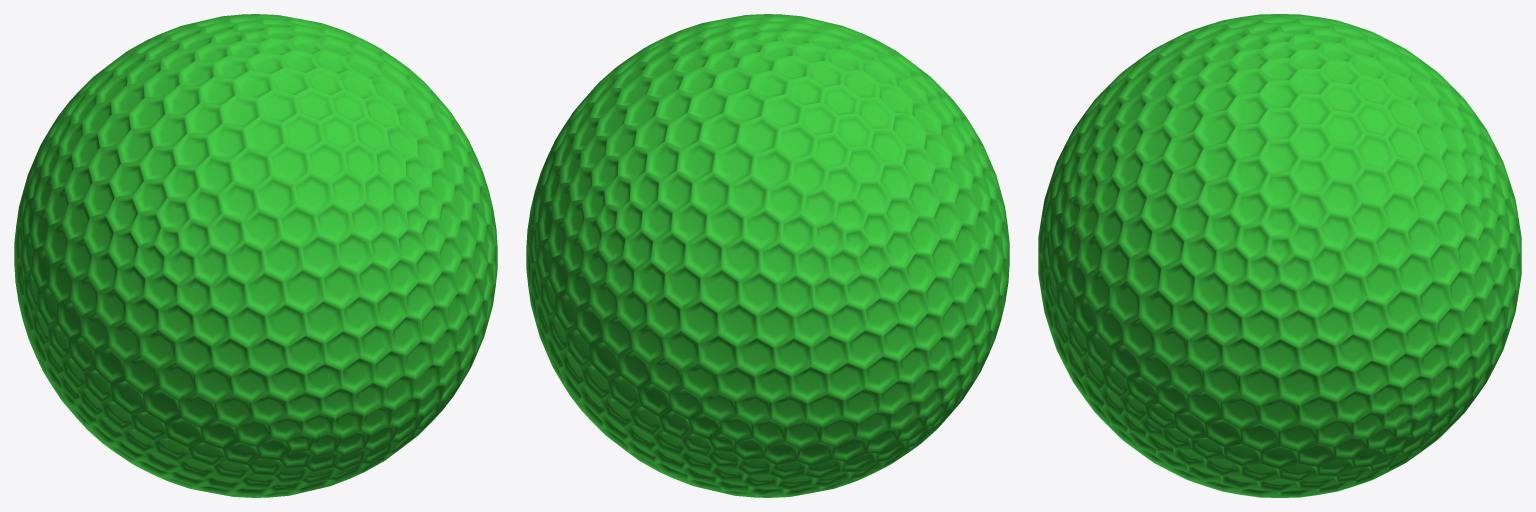
Rendered from GreenBall.fbx.
The picture shows the model from 3 angles, left to right: view 1: azimuth 30°, elevation 25°; view 2: azimuth 150°, elevation 25°; view 3: azimuth 270°, elevation 25°; orthographic projection.
Visible parts, largest first — view 1: GolfBall; view 2: GolfBall; view 3: GolfBall.
Boxes of the visible parts, x1=… form: GolfBall: x1=14, y1=14, x2=497, y2=497; GolfBall: x1=526, y1=14, x2=1009, y2=497; GolfBall: x1=1038, y1=14, x2=1521, y2=497.
Bounding box in the file's own units: 37.86 × 38 × 37.87.
